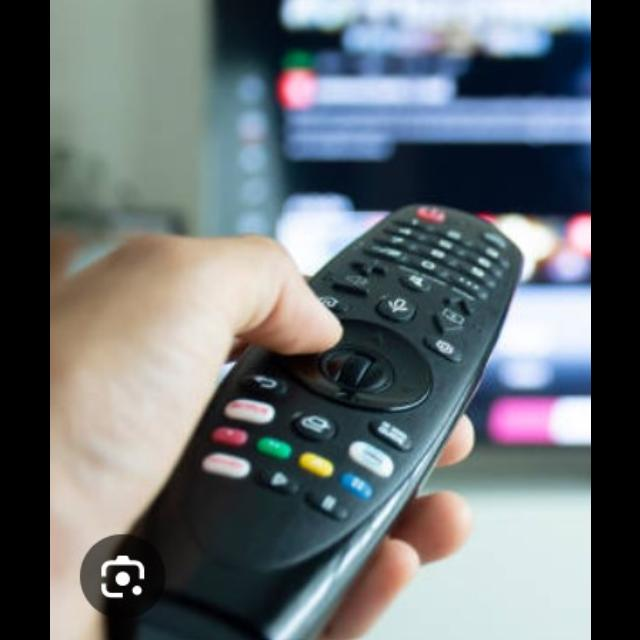TV-Remote-Control: (79, 204, 523, 640)
